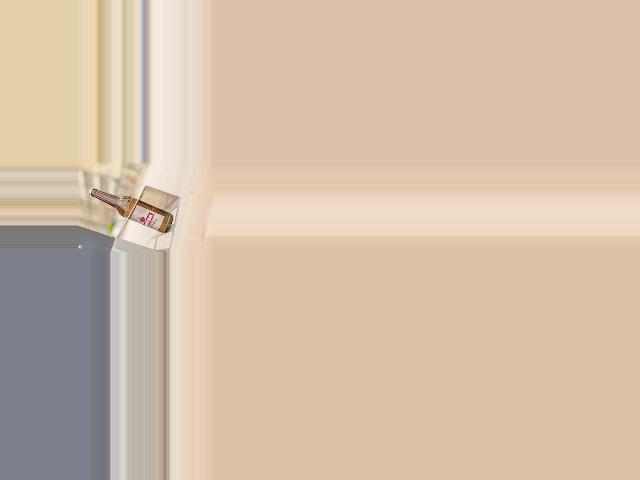beer: (88, 187, 173, 234)
